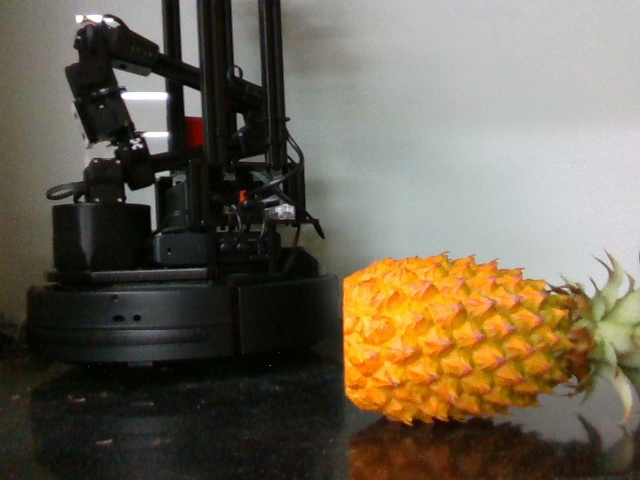pineapple: (332, 244, 640, 439)
